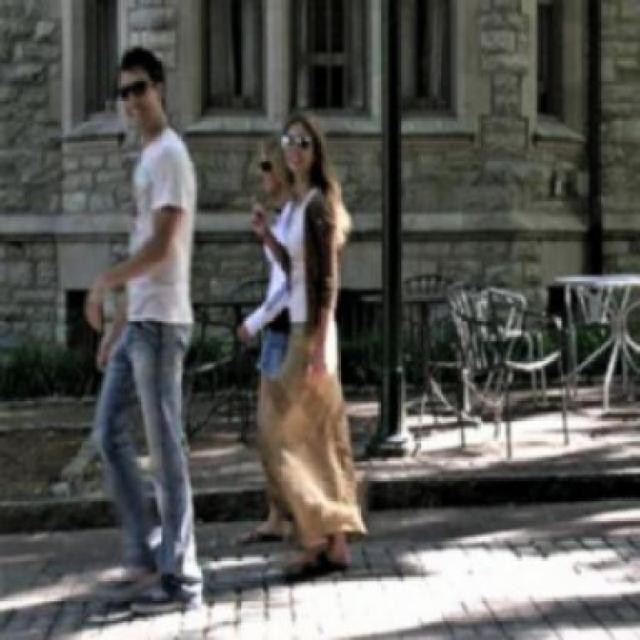Person: (82, 41, 205, 616), (251, 110, 367, 592)
